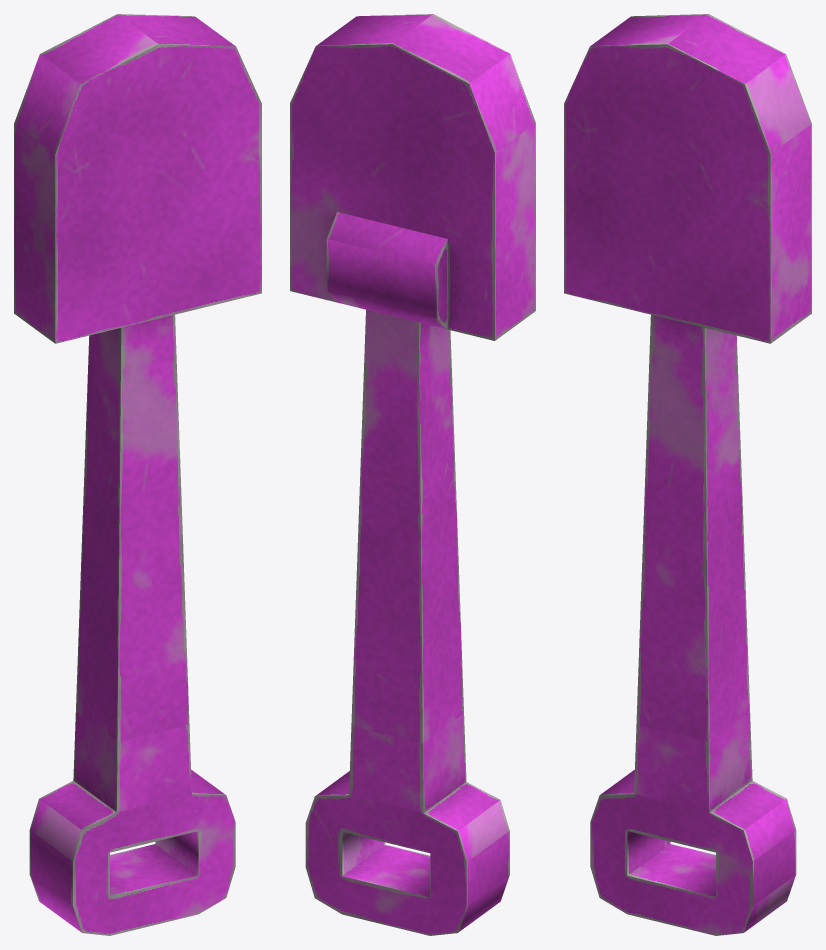
Rendered from tool-shovel.glb.
3 views of the same model, side by side, from view 1: azimuth 30°, elevation 25°; view 2: azimuth 150°, elevation 25°; view 3: azimuth 330°, elevation 25° (orthographic).
Parts seen in each view (by area): view 1: tool-shovel; view 2: tool-shovel; view 3: tool-shovel.
Boxes of the visible parts, box(x1,y1,x2,y2) form: tool-shovel: box(14, 14, 261, 935); tool-shovel: box(290, 14, 535, 935); tool-shovel: box(564, 14, 811, 935).
Size of the model in its own units: 0.0709 by 0.29 by 0.0309.
Materials: 1 (1 with a texture image).
